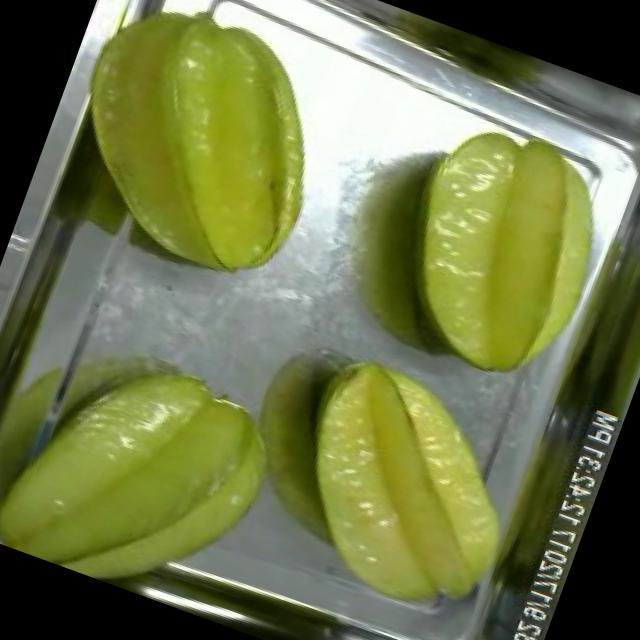fruit: (30, 0, 367, 308), (0, 308, 311, 627), (250, 333, 557, 640), (359, 96, 640, 411)
